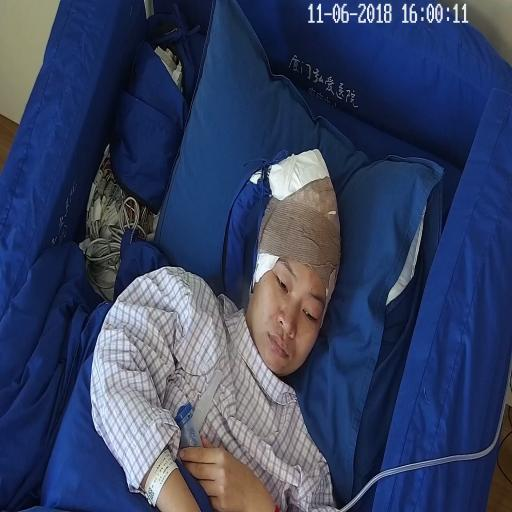Seizure: (249, 156, 342, 379)
